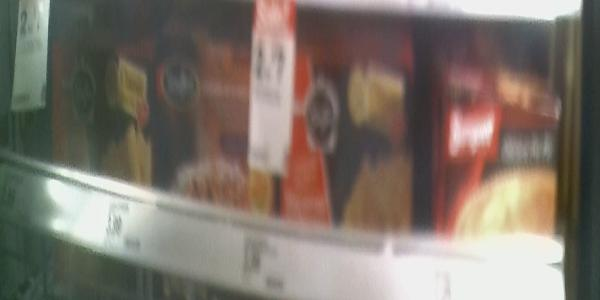pizza1: (270, 33, 419, 230), (439, 80, 559, 231), (150, 60, 264, 206)
